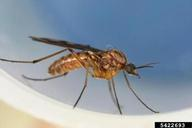Fruit fly: (25, 29, 147, 113)
